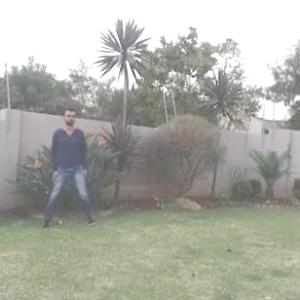follow: (50, 102, 86, 224)
